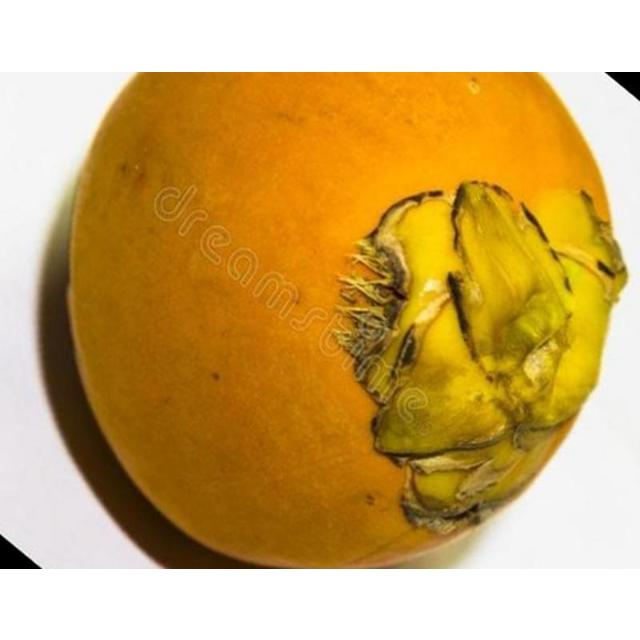good: (54, 71, 630, 568)
